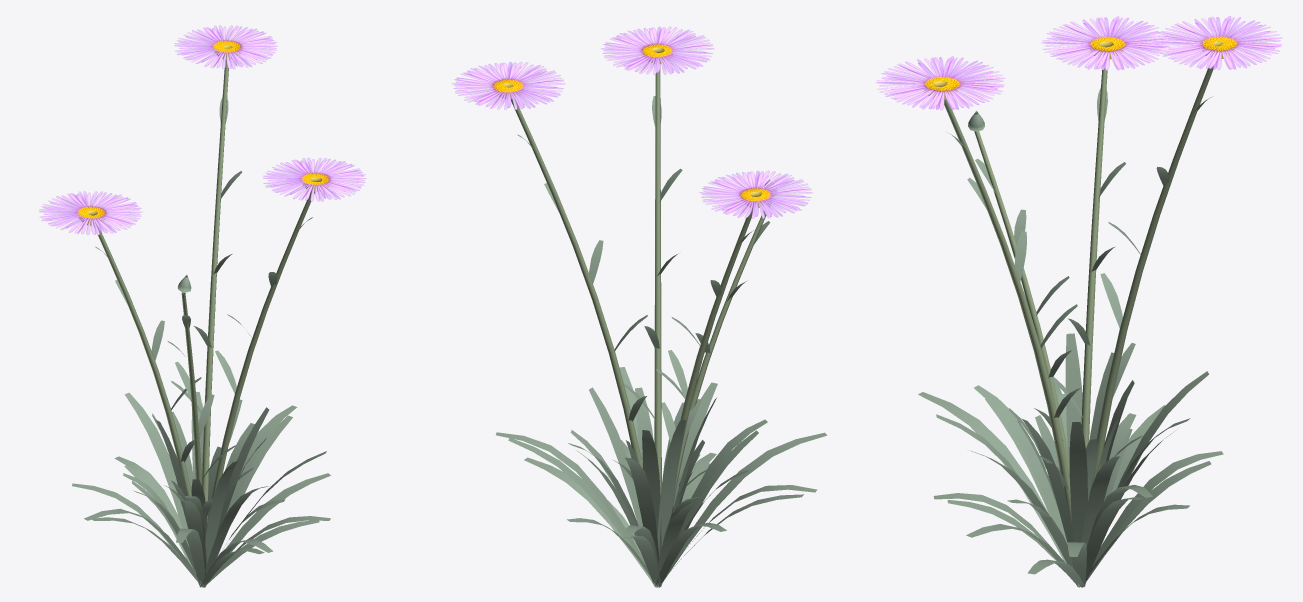
File: sea-aster-v1.glb
The picture shows the model from 3 angles, left to right: view 1: azimuth 30°, elevation 25°; view 2: azimuth 150°, elevation 25°; view 3: azimuth 270°, elevation 25°; orthographic projection. The views are drawn at different scales.
Visible parts, largest first — view 1: bud, flower-0; view 2: bud, flower-0; view 3: bud, flower-0.
Part boxes in pixels (x1,y1,x2,y2): bud: (72,60,330,587); flower-0: (39,25,366,235); bud: (496,69,826,587); flower-0: (452,26,812,218); bud: (918,66,1223,587); flower-0: (876,16,1282,110).
Size of the model in its own units: 0.2539 by 0.4152 by 0.2663.
4 materials, 1 textured.
